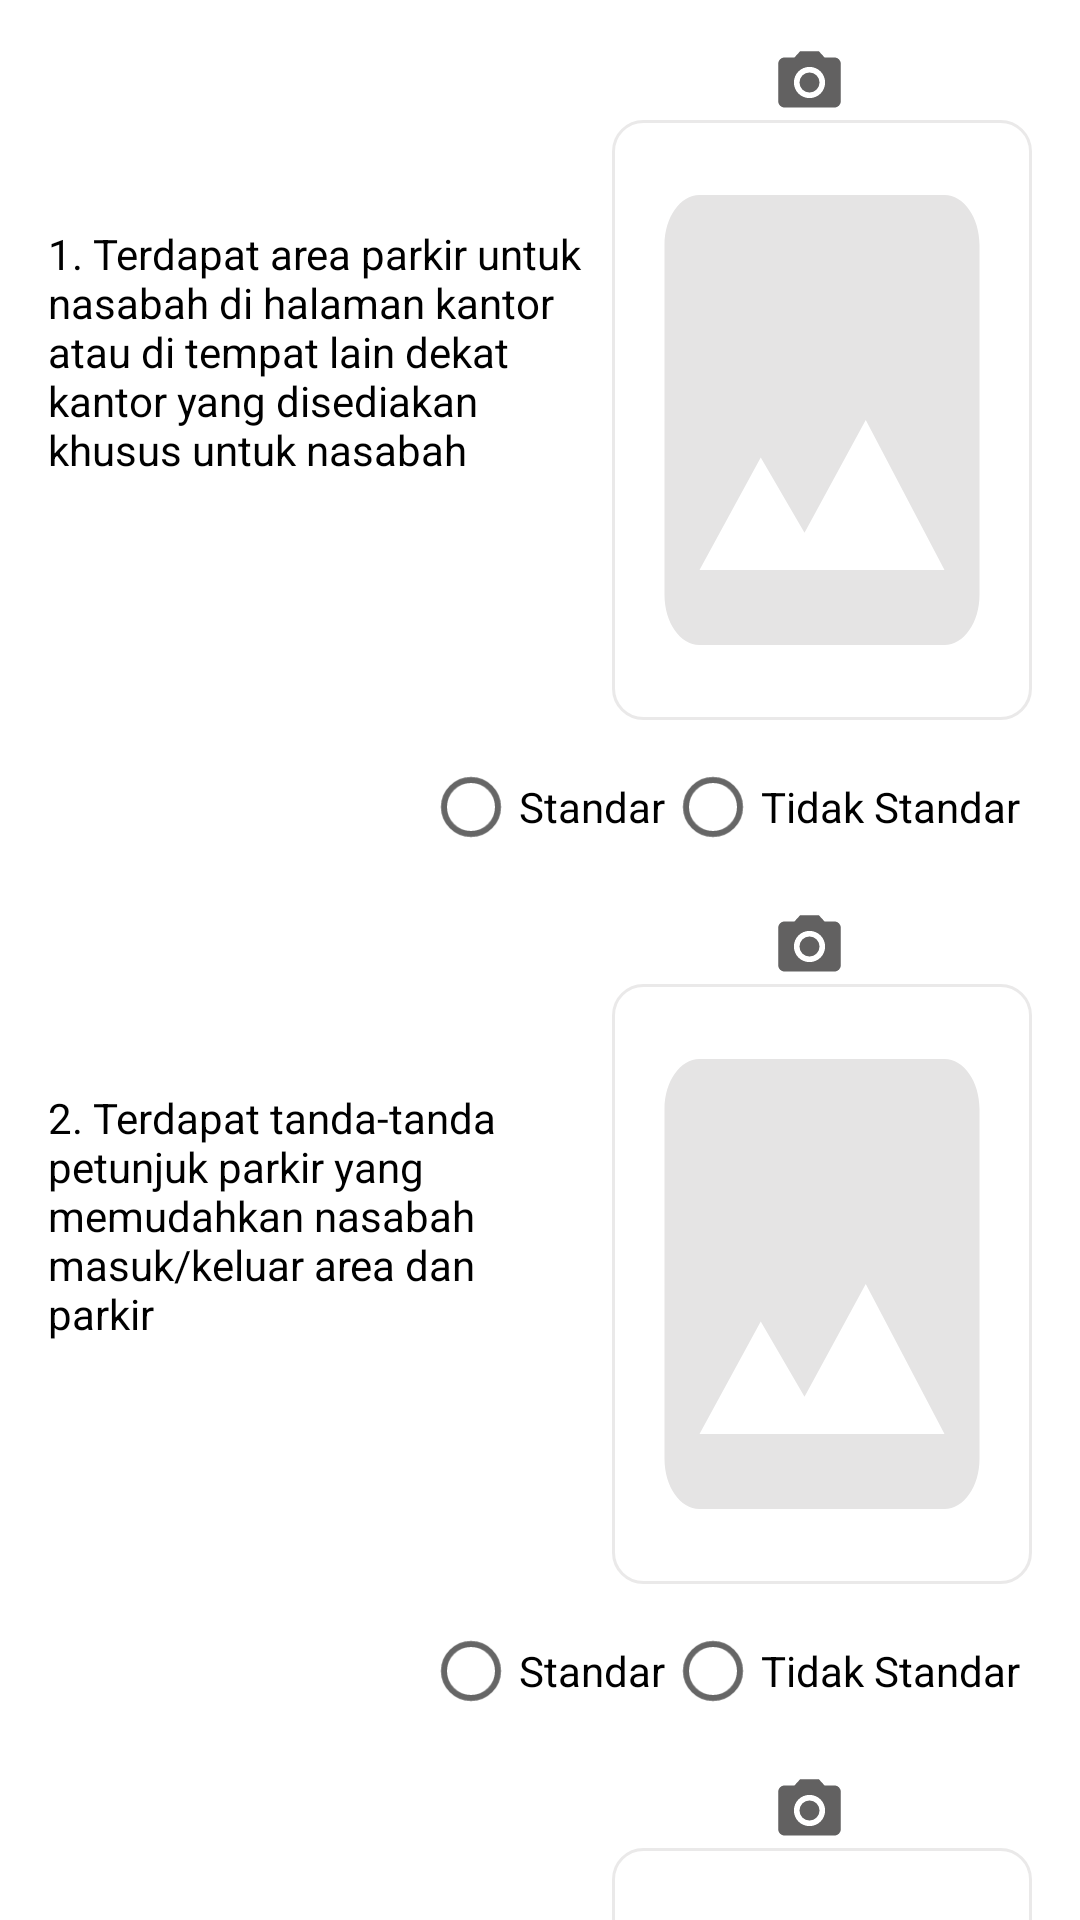

Icon bounding boxes for this 1080w x 1920h phone screenshot, format {"left": x1, "top": y1, "right": x2, "bottom": y2}:
camera: {"left": 778, "top": 51, "right": 841, "bottom": 108}, {"left": 778, "top": 915, "right": 841, "bottom": 972}, {"left": 778, "top": 1779, "right": 841, "bottom": 1836}
